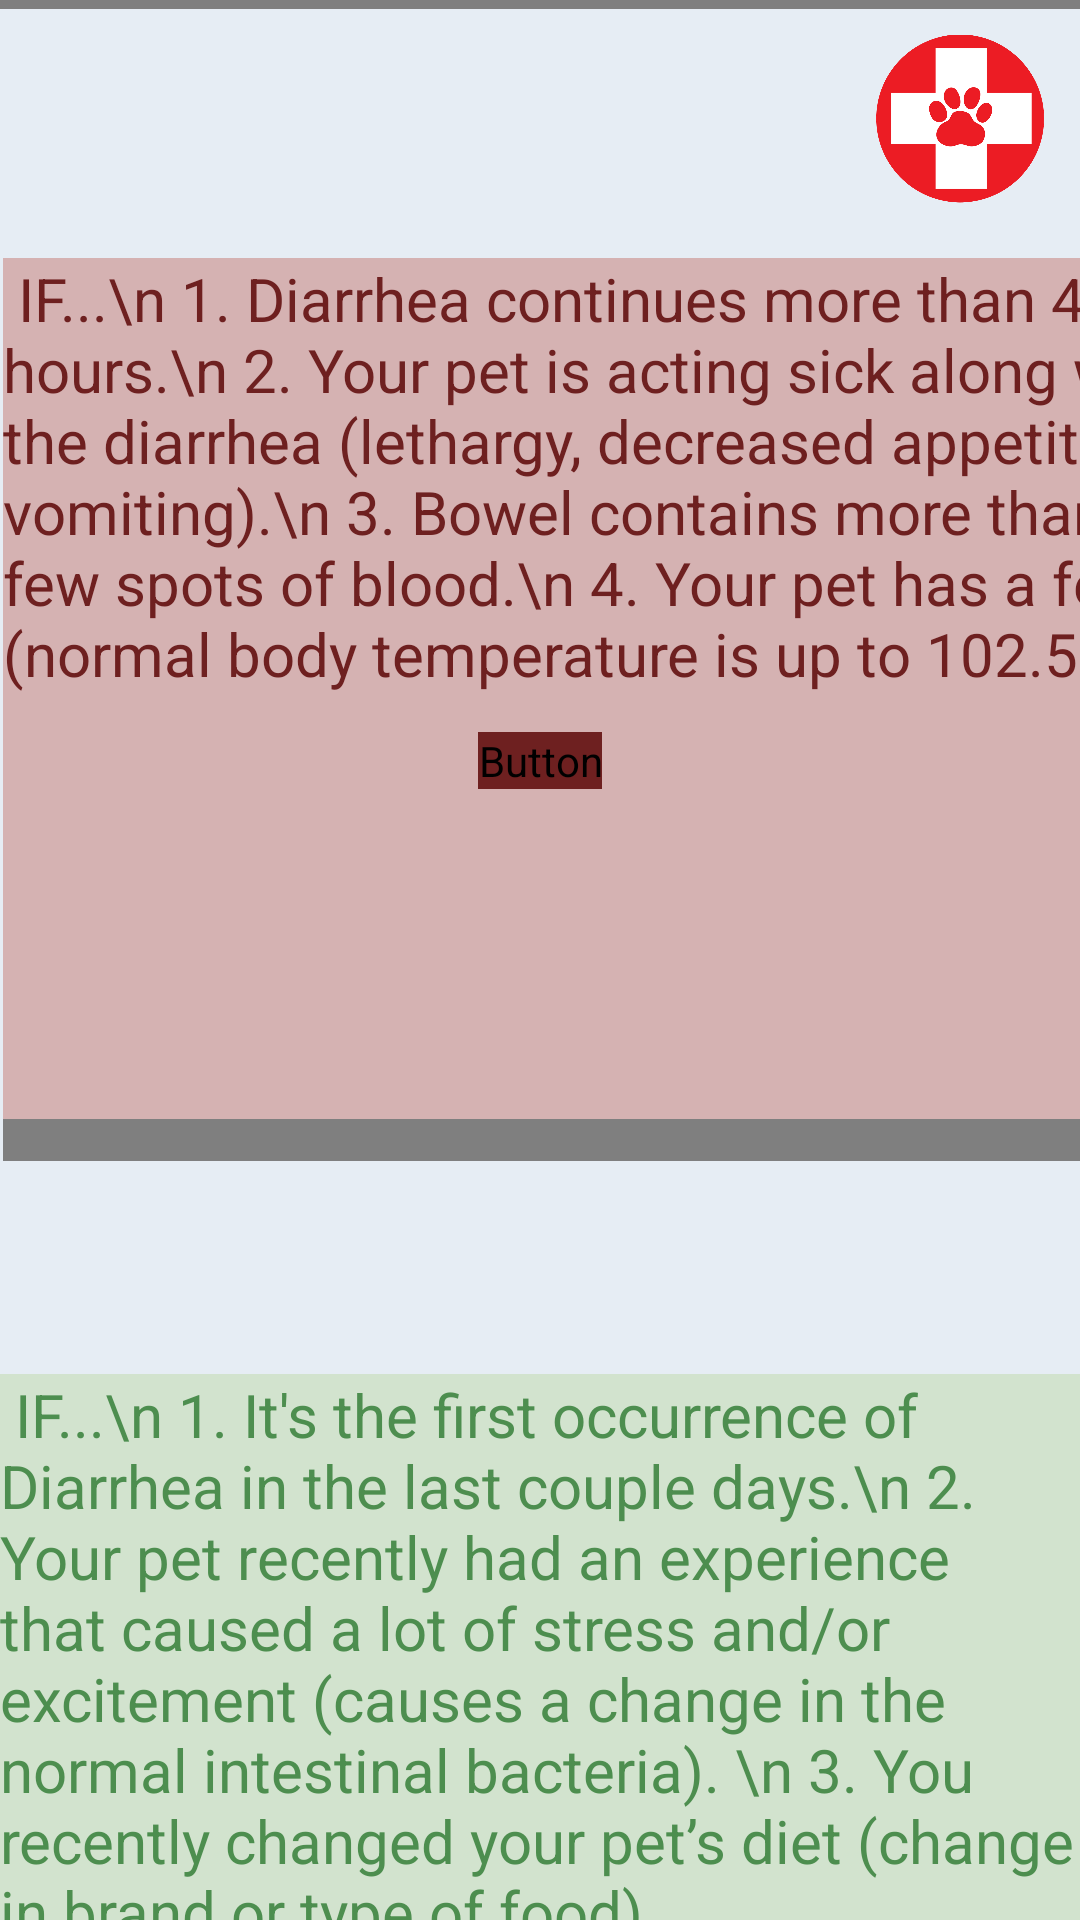

Named icons in this screenshot (1080px x 1920px) and their centers, [x,y]:
high sev: [960,119]
